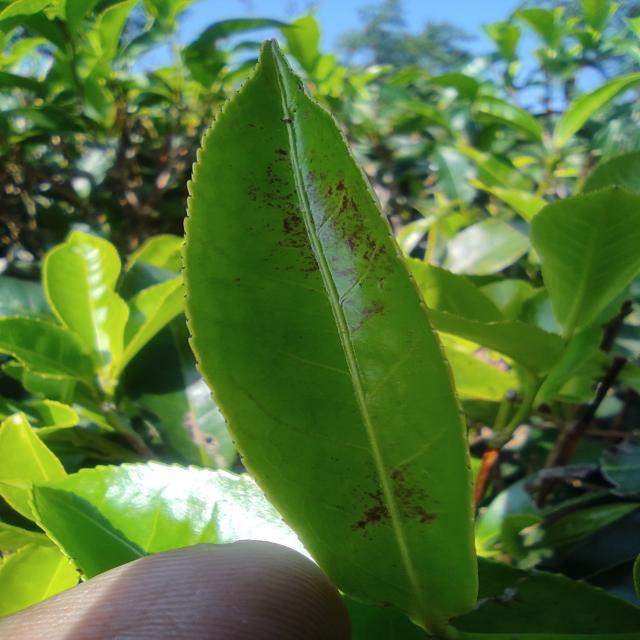Category C 4-7 days: (147, 19, 511, 623)
